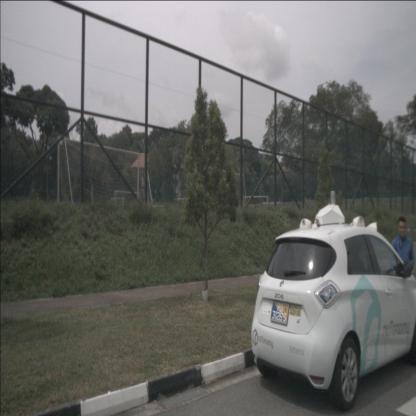human-pedestrian-adult: (389, 216, 415, 349)
vehicle-car: (250, 224, 416, 412)
